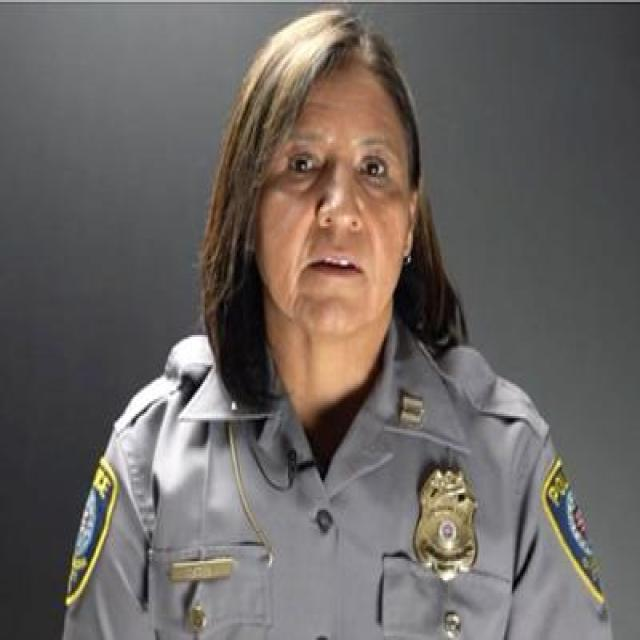police: (68, 10, 625, 640)
